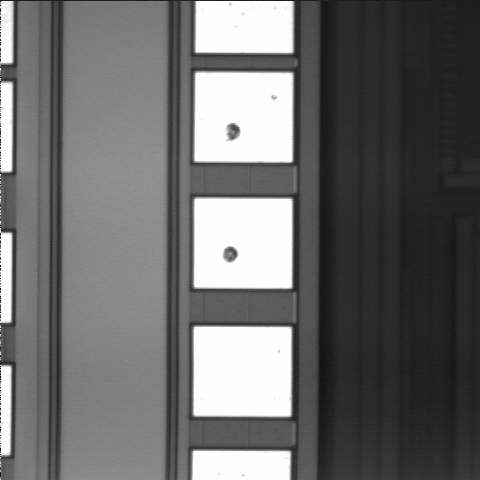pad: (195, 72, 293, 162), (194, 198, 292, 288), (194, 327, 291, 417)
